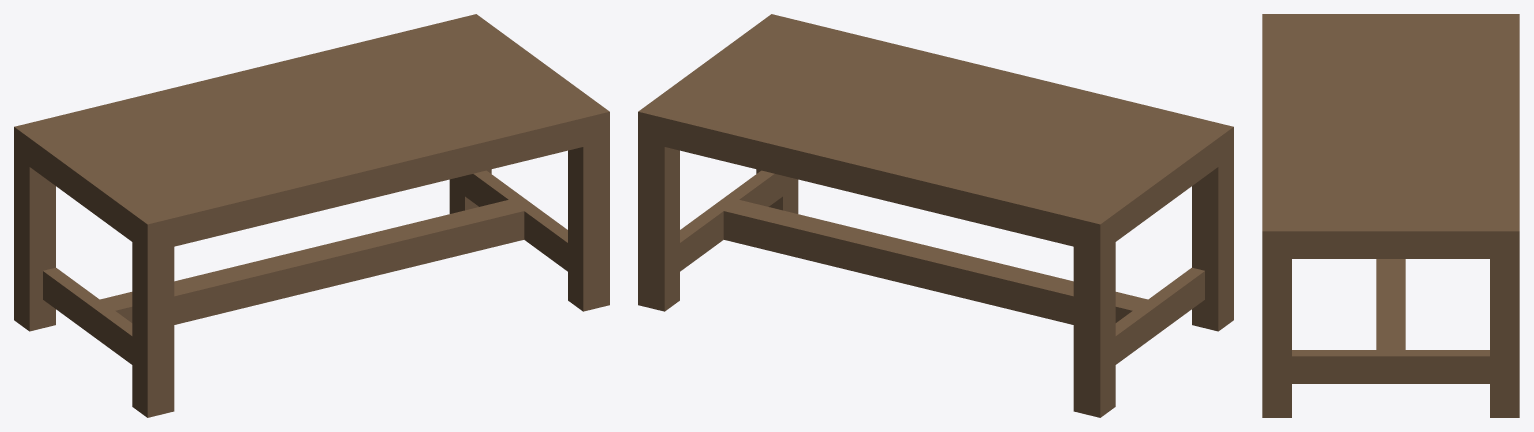
File: pk_trect_oak.glb
3 views of the same model, side by side, from view 1: azimuth 30°, elevation 25°; view 2: azimuth 150°, elevation 25°; view 3: azimuth 270°, elevation 25° (orthographic). The views are drawn at different scales.
Visible parts, largest first — view 1: pk_trect_oak; view 2: pk_trect_oak; view 3: pk_trect_oak.
Boxes of the visible parts, bbox=[...] form: pk_trect_oak: bbox=[14, 14, 609, 417]; pk_trect_oak: bbox=[638, 14, 1233, 417]; pk_trect_oak: bbox=[1262, 14, 1519, 417].
Bounding box in the file's own units: 1.9 × 0.76 × 0.95.
1 material, 1 textured.
